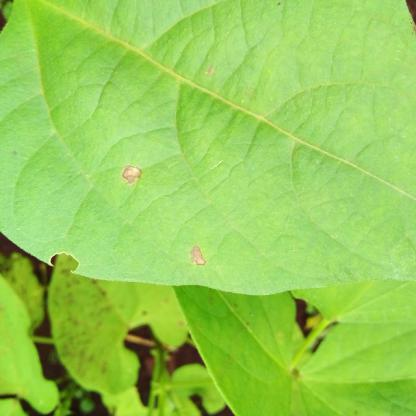Beans_Angular_LeafSpot: (0, 0, 416, 283)
